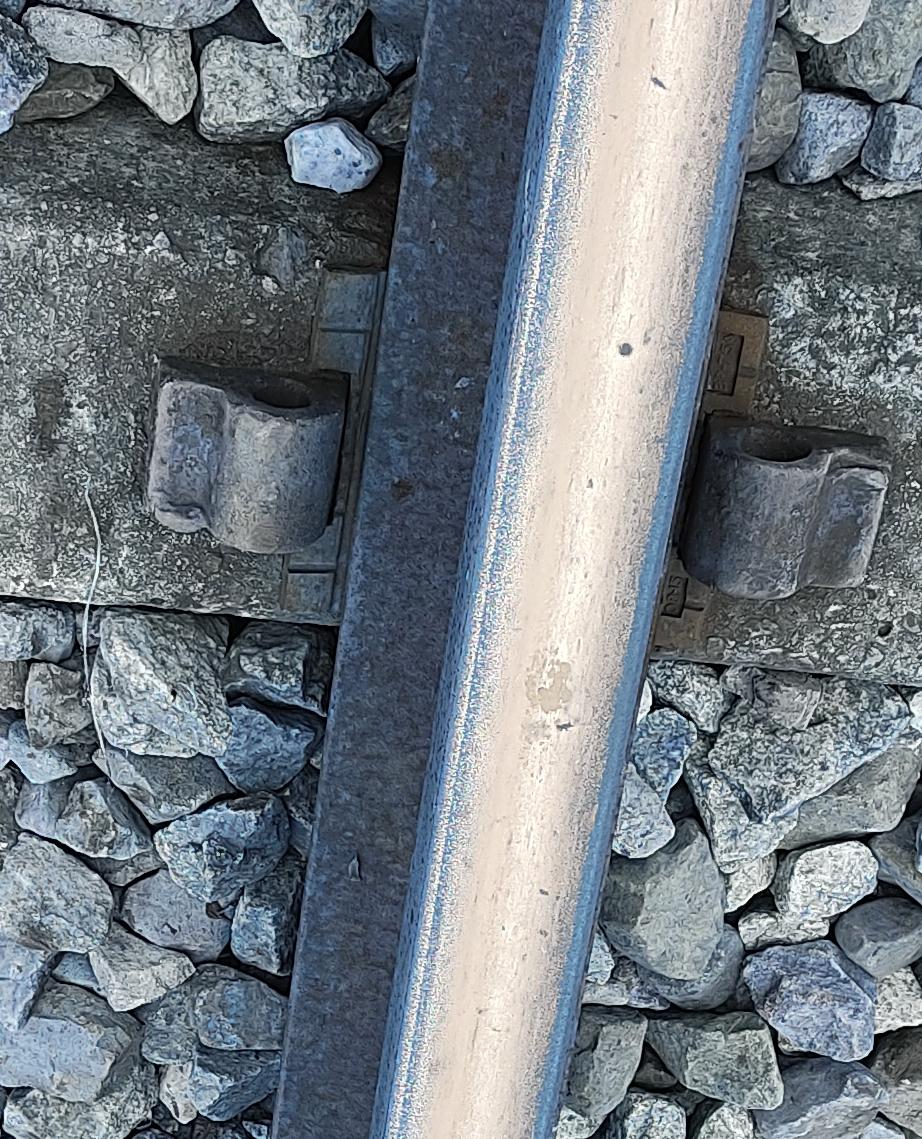loss: (145, 349, 362, 581), (699, 427, 895, 609)
